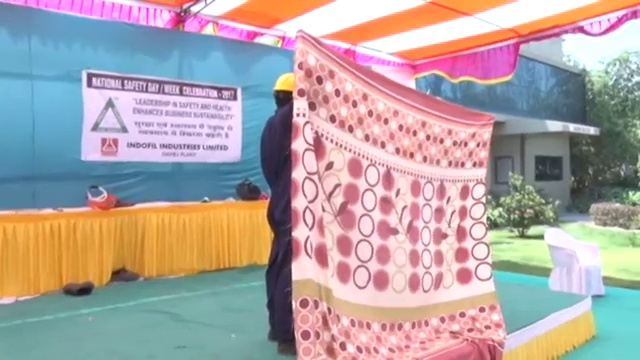helmet: (272, 68, 296, 93)
helmet_on: (272, 67, 296, 111)
person: (260, 67, 299, 358)
